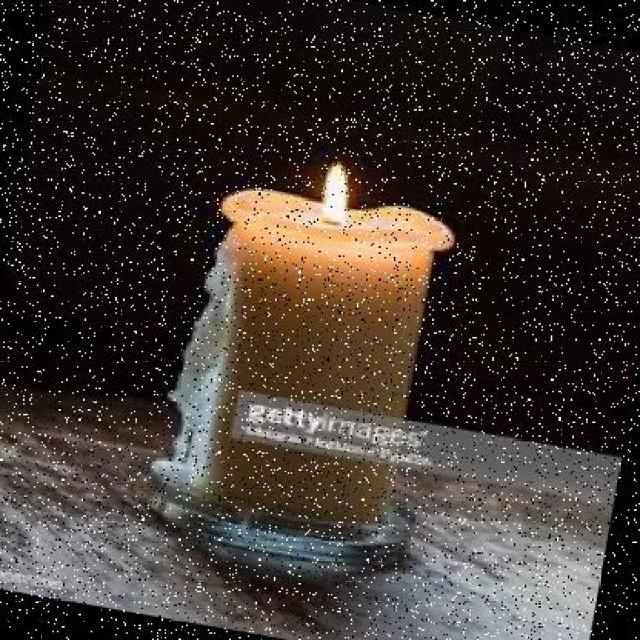fire: (308, 154, 364, 231)
